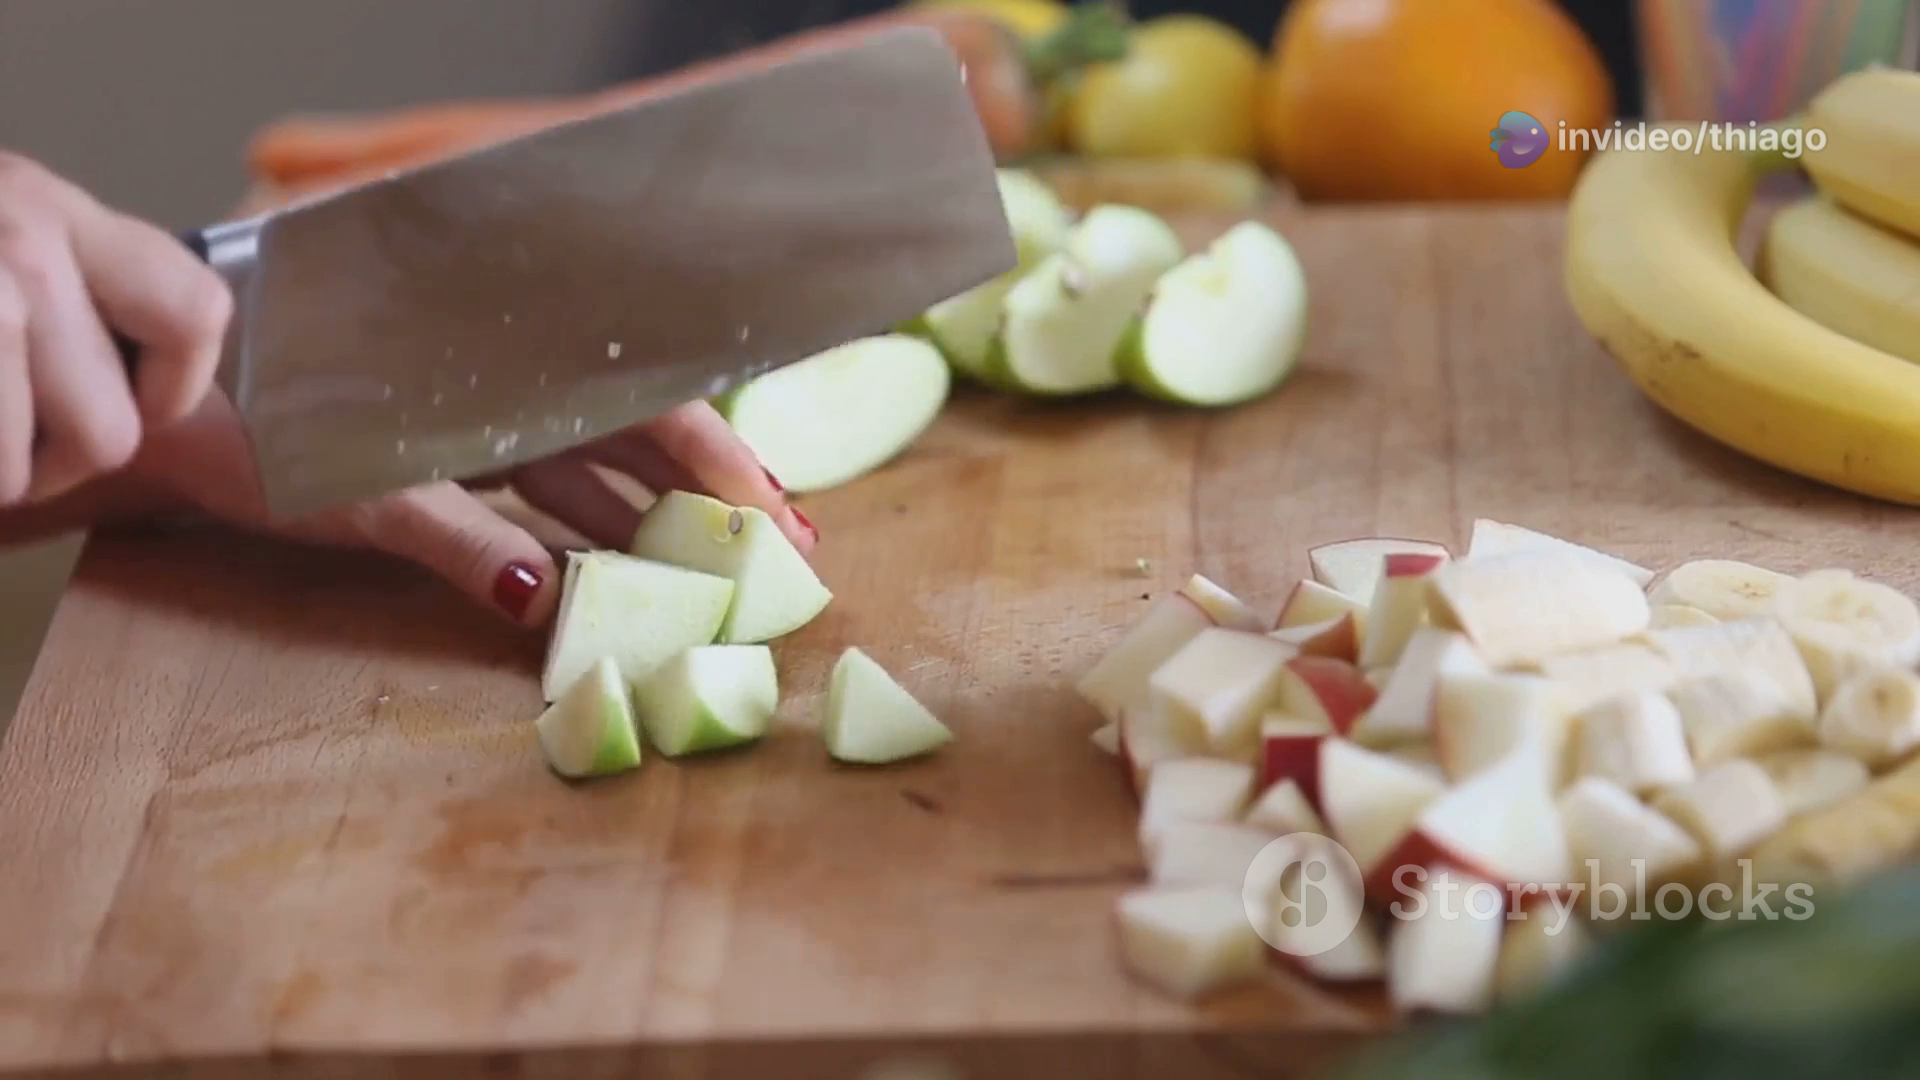cortante: (186, 22, 1019, 520)
